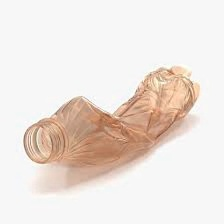bottle: (20, 63, 204, 183)
